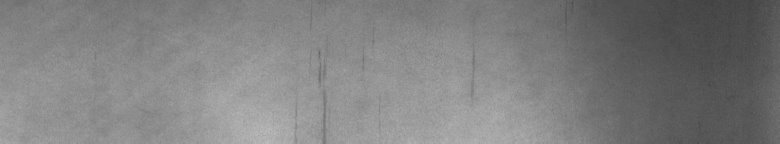ka: (295, 50, 328, 136)
